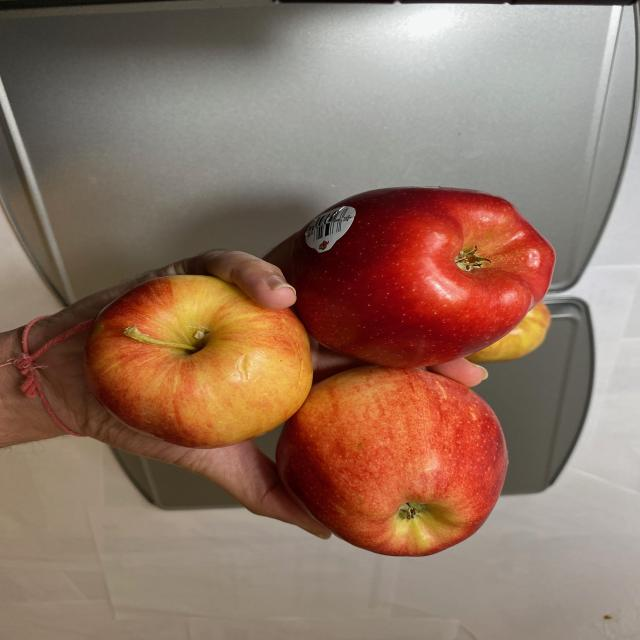apple: (74, 188, 562, 558)
